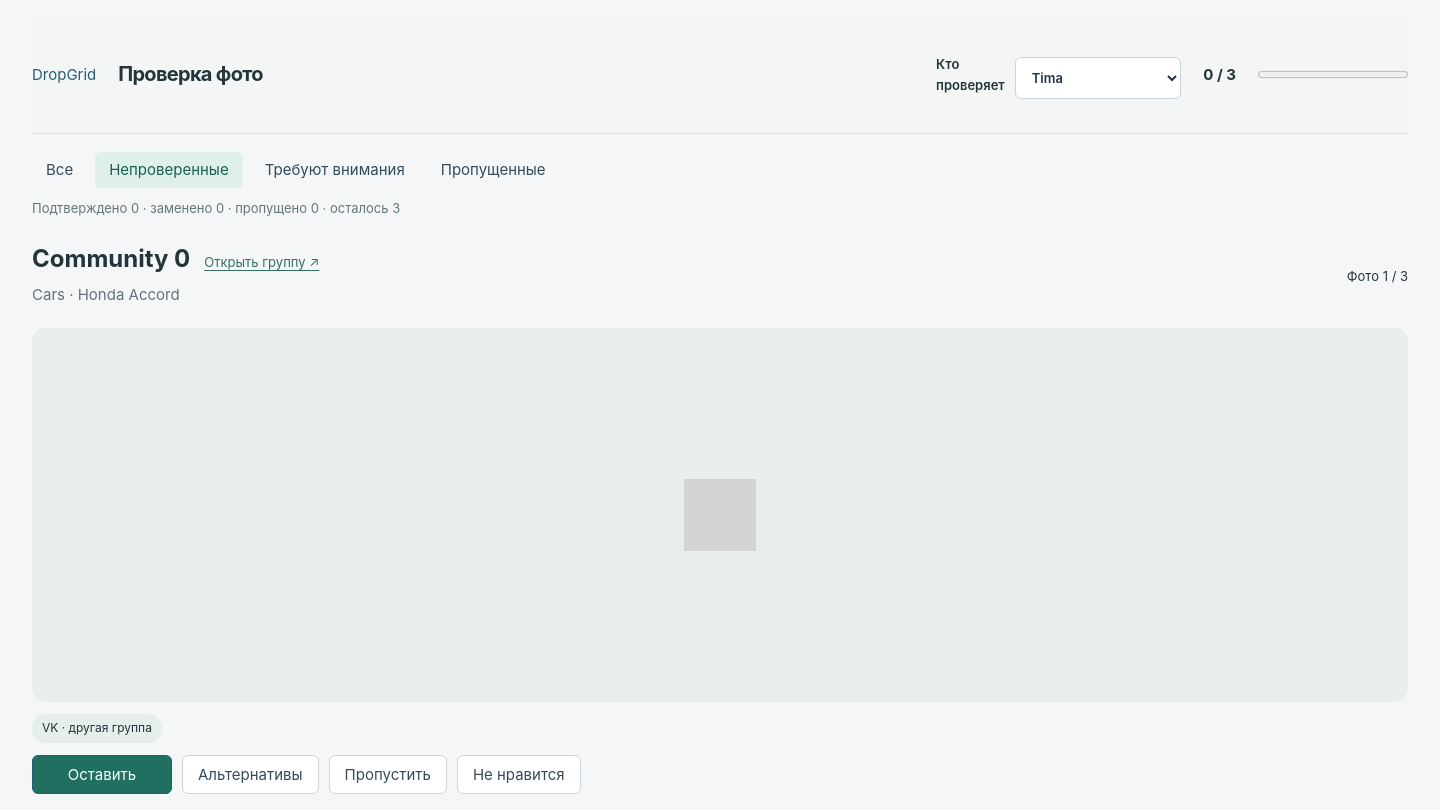
Test: balances alternatives, saves choice without label, Enter confirms and Left goes back
This screenshot has width=1440, height=810.
expect the heading "Community 0" is shown: met, box [32,240,190,277]
Click the button "Альтернативы".
click(250, 774)  # box [182,754,319,794]
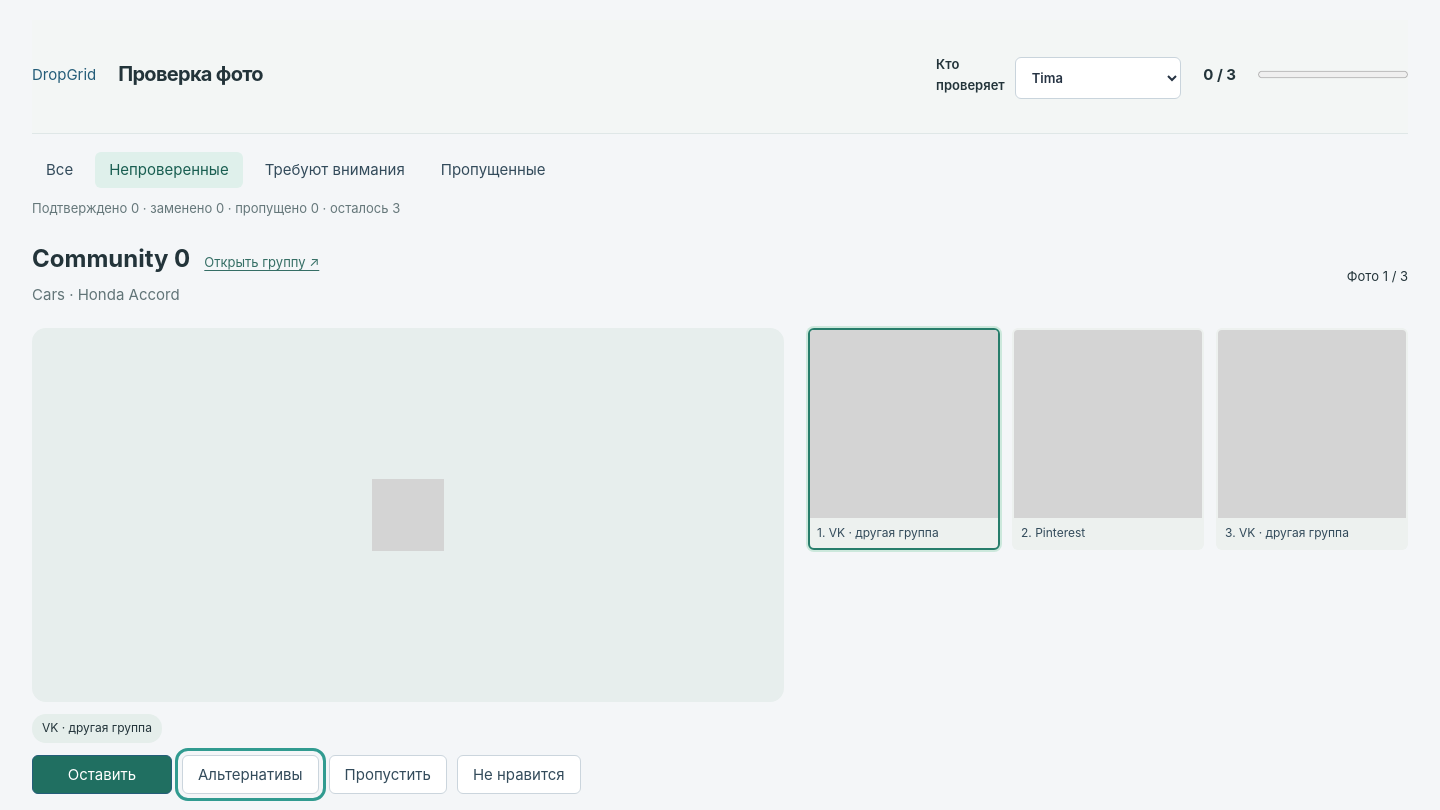
Type keys "2"
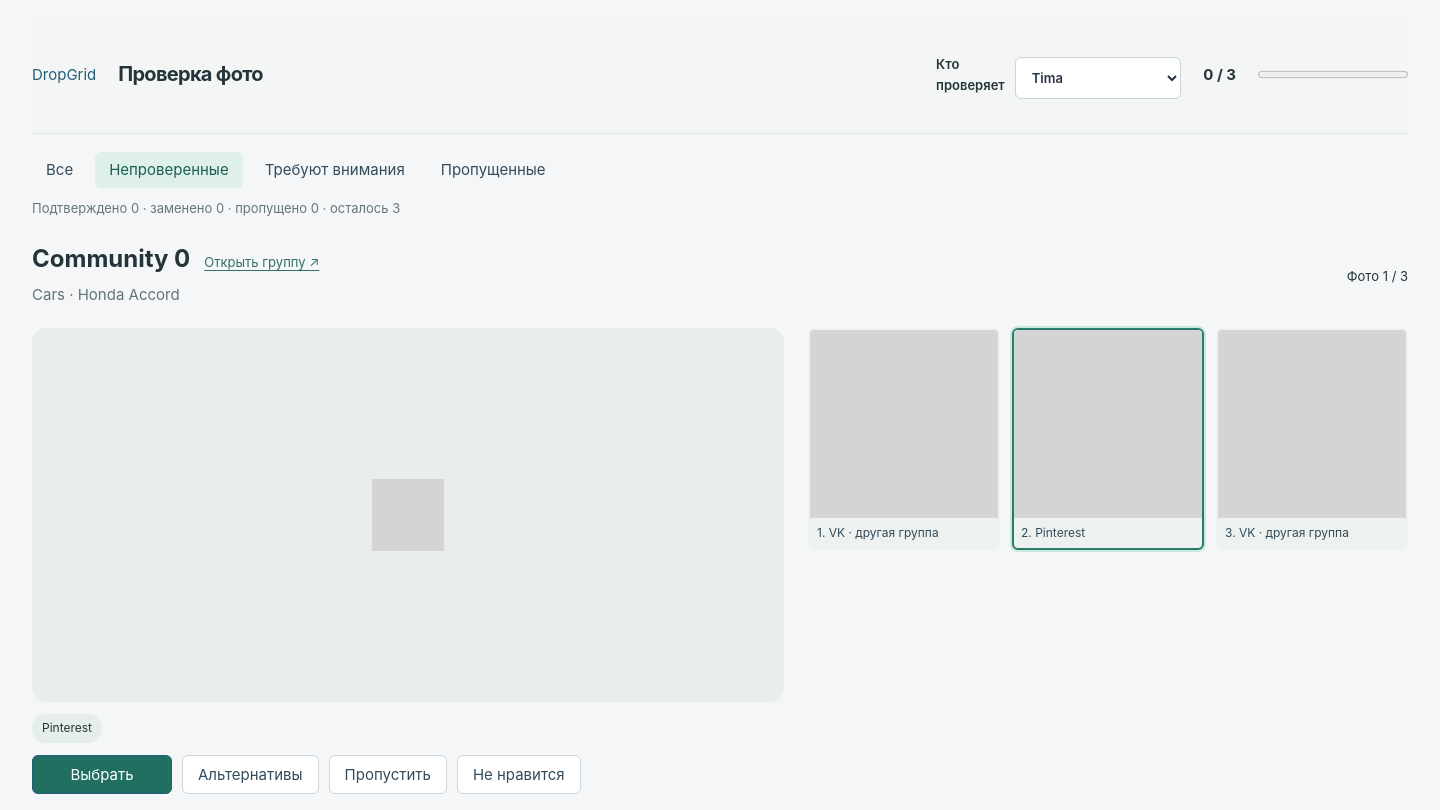
expect the button "Выбрать" is shown: met, box [32,754,172,794]
Press Enter
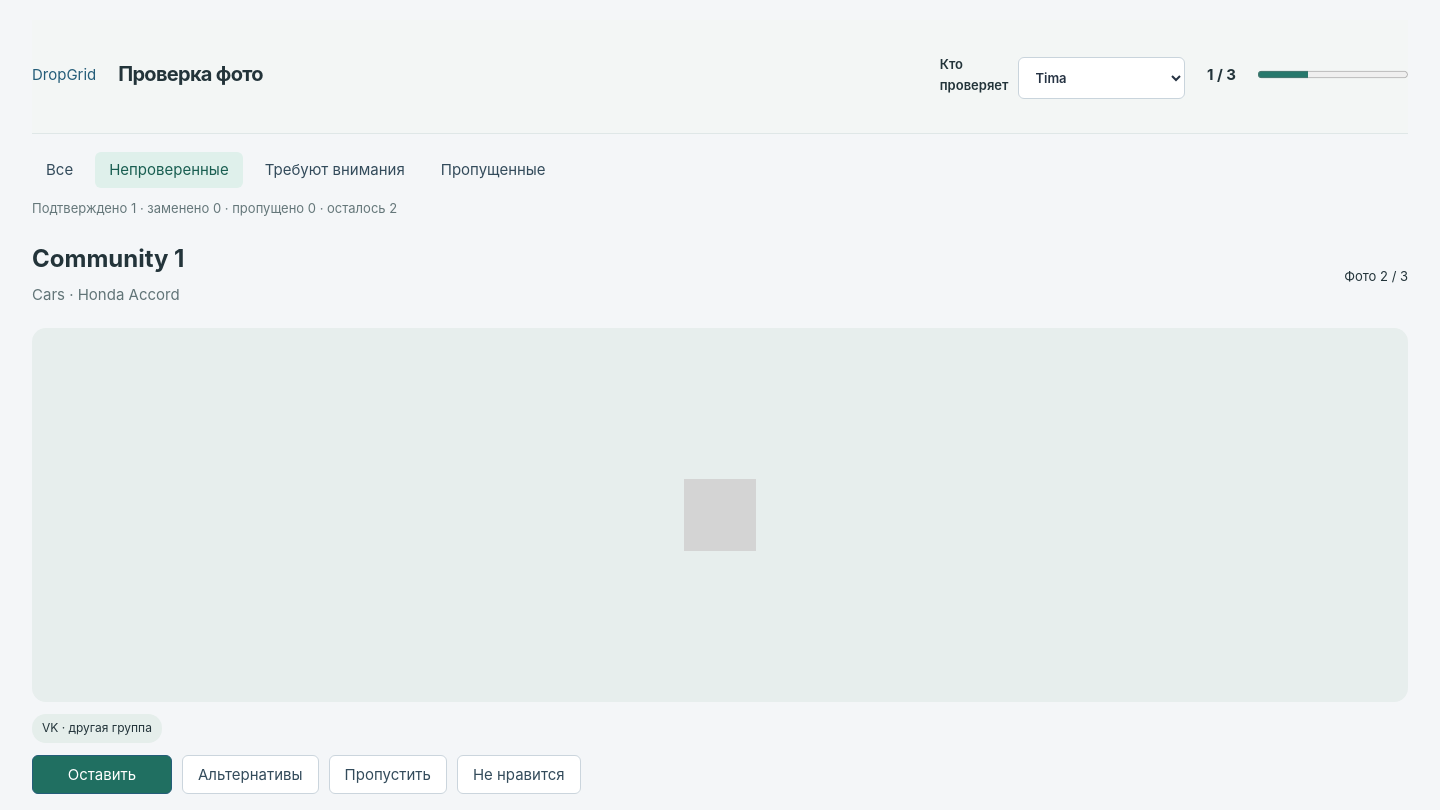
expect the heading "Community 1" is shown: met, box [32,240,184,277]
Press Arrowleft
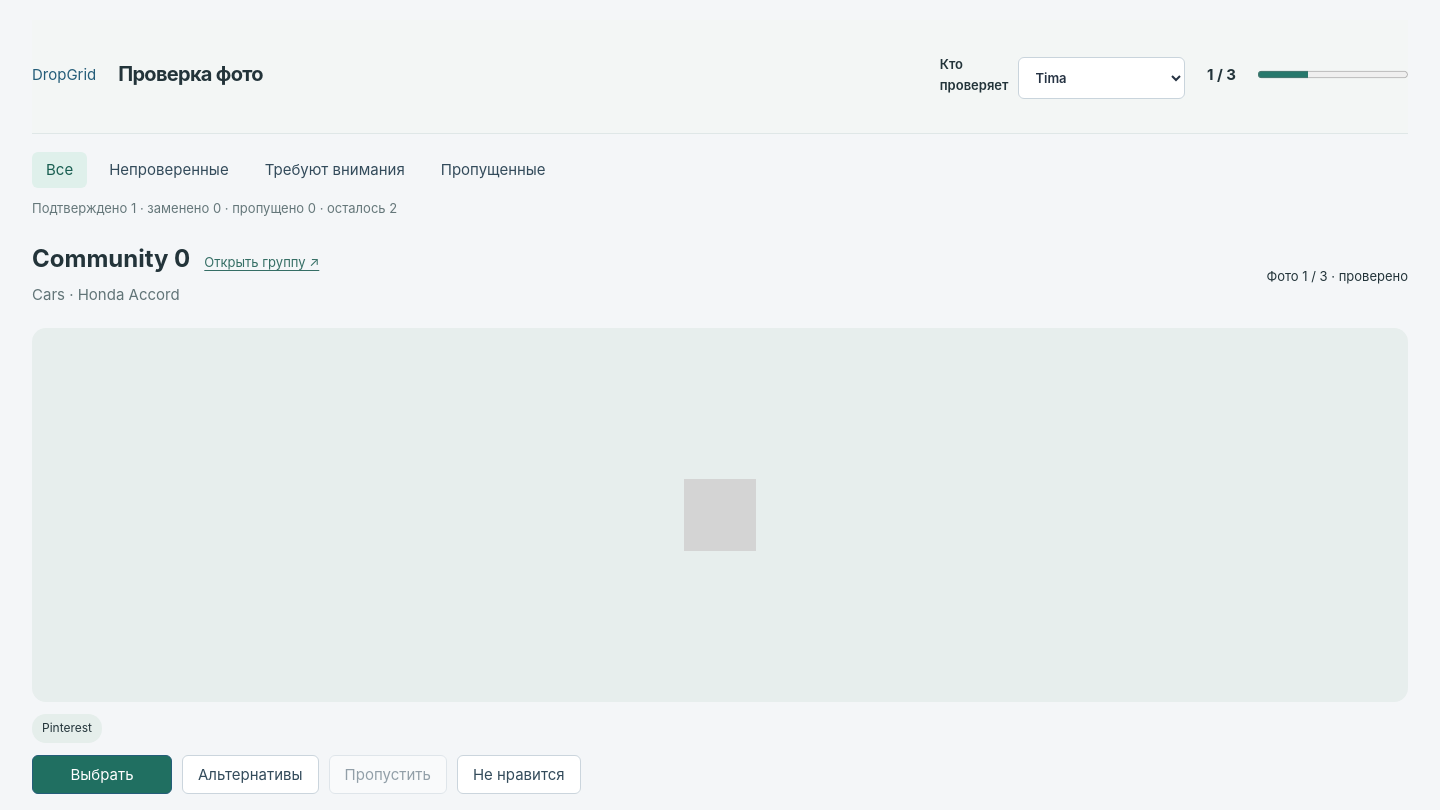
expect the heading "Community 0" is shown: met, box [32,240,190,277]
